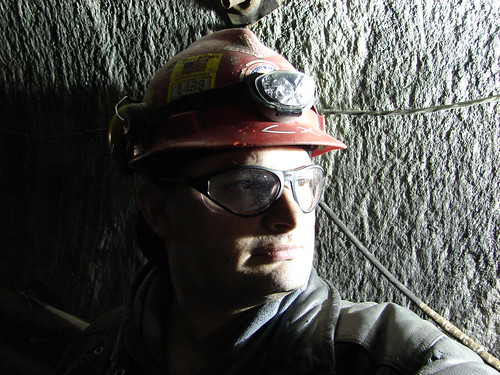person hardhat: (104, 30, 488, 375)
